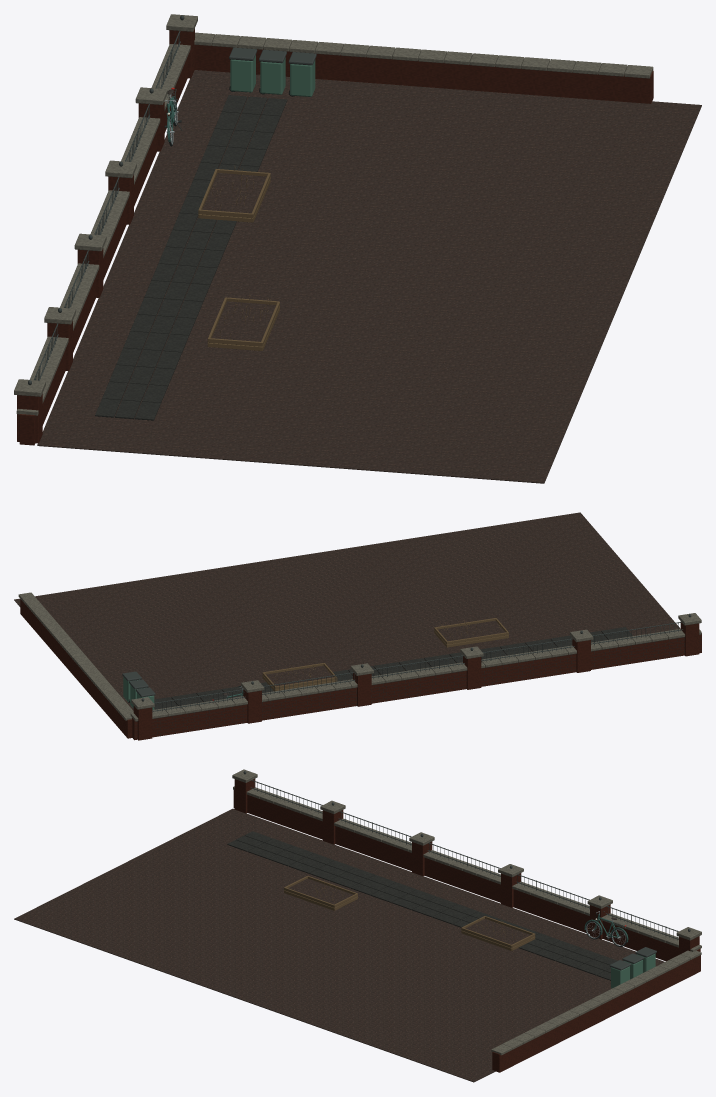
The model's file is courtyard-edge.glb.
The picture shows the model from 3 angles, top to bottom: view 1: azimuth 30°, elevation 25°; view 2: azimuth 150°, elevation 25°; view 3: azimuth 270°, elevation 25°; orthographic projection. The views are drawn at different scales.
Visible parts, largest first — view 1: Courtyard_Edge_Courtyard worn aggregate, Courtyard_Edge_Stone_Dark, Courtyard_Edge_Brick, Courtyard_Edge_Stone_Trim, Courtyard_Edge_Weathered dark cast iron, Courtyard_Edge_Courtyard faded timber, Courtyard_Edge_Faded park utility enamel; view 2: Courtyard_Edge_Courtyard worn aggregate, Courtyard_Edge_Brick, Courtyard_Edge_Stone_Trim, Courtyard_Edge_Stone_Dark, Courtyard_Edge_Weathered dark cast iron, Courtyard_Edge_Courtyard faded timber; view 3: Courtyard_Edge_Courtyard worn aggregate, Courtyard_Edge_Brick, Courtyard_Edge_Stone_Trim, Courtyard_Edge_Stone_Dark, Courtyard_Edge_Weathered dark cast iron, Courtyard_Edge_Courtyard faded timber, Courtyard_Edge_Faded park utility enamel.
Part boxes in pixels (x1=…): Courtyard_Edge_Courtyard worn aggregate: x1=37, y1=70, x2=701, y2=483; Courtyard_Edge_Stone_Dark: x1=95, y1=95, x2=287, y2=420; Courtyard_Edge_Brick: x1=17, y1=28, x2=653, y2=445; Courtyard_Edge_Stone_Trim: x1=14, y1=14, x2=653, y2=415; Courtyard_Edge_Weathered dark cast iron: x1=28, y1=15, x2=316, y2=385; Courtyard_Edge_Courtyard faded timber: x1=198, y1=165, x2=279, y2=350; Courtyard_Edge_Faded park utility enamel: x1=230, y1=55, x2=315, y2=96; Courtyard_Edge_Courtyard worn aggregate: x1=14, y1=512, x2=680, y2=710; Courtyard_Edge_Brick: x1=20, y1=599, x2=701, y2=740; Courtyard_Edge_Stone_Trim: x1=18, y1=592, x2=701, y2=721; Courtyard_Edge_Stone_Dark: x1=135, y1=627, x2=701, y2=737; Courtyard_Edge_Weathered dark cast iron: x1=122, y1=614, x2=691, y2=712; Courtyard_Edge_Courtyard faded timber: x1=262, y1=618, x2=508, y2=691; Courtyard_Edge_Courtyard worn aggregate: x1=14, y1=808, x2=664, y2=1082; Courtyard_Edge_Brick: x1=233, y1=779, x2=700, y2=1072; Courtyard_Edge_Stone_Trim: x1=232, y1=769, x2=701, y2=1055; Courtyard_Edge_Stone_Dark: x1=227, y1=831, x2=617, y2=980; Courtyard_Edge_Weathered dark cast iron: x1=243, y1=771, x2=690, y2=970; Courtyard_Edge_Courtyard faded timber: x1=284, y1=876, x2=535, y2=950; Courtyard_Edge_Faded park utility enamel: x1=611, y1=953, x2=655, y2=988.
Bounding box in the file's own units: 24.06 × 1.56 × 25.15.
14 materials, 4 textured.
